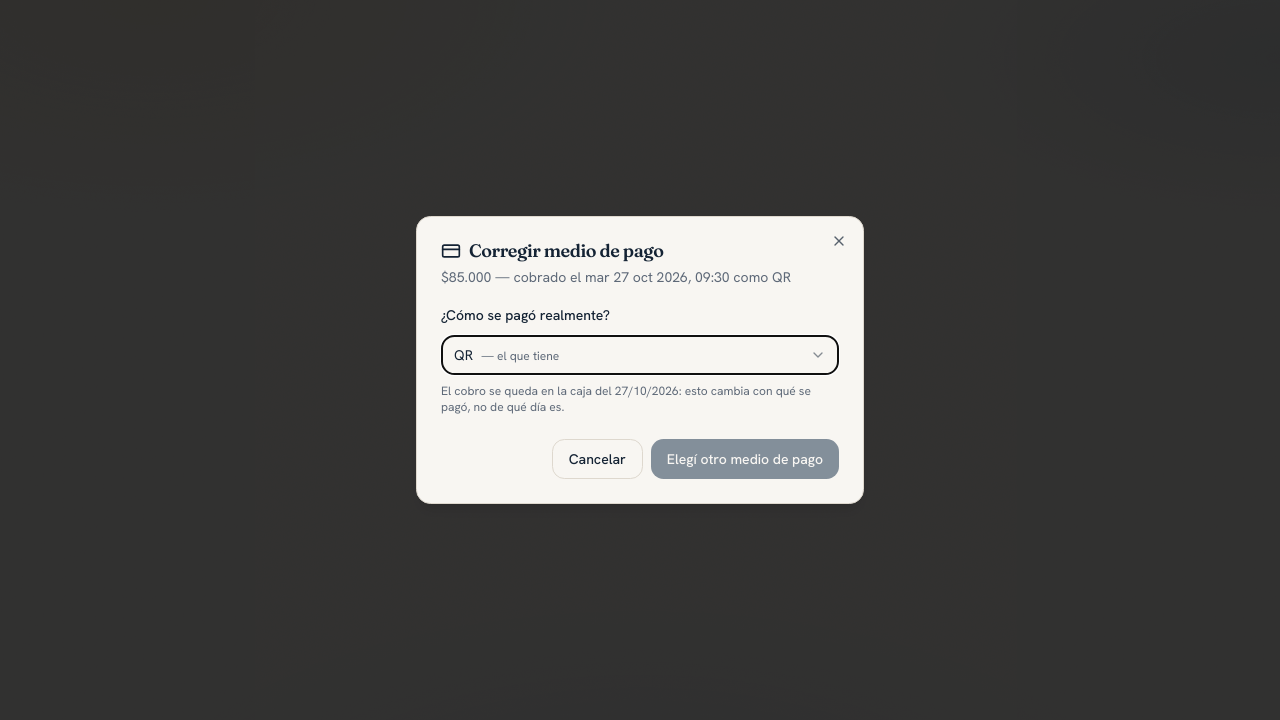
Test: el diálogo de corregir medio de pago › muestra de qué método a qué método queda
Click the dropdown: (520, 356) [441,335,839,375]
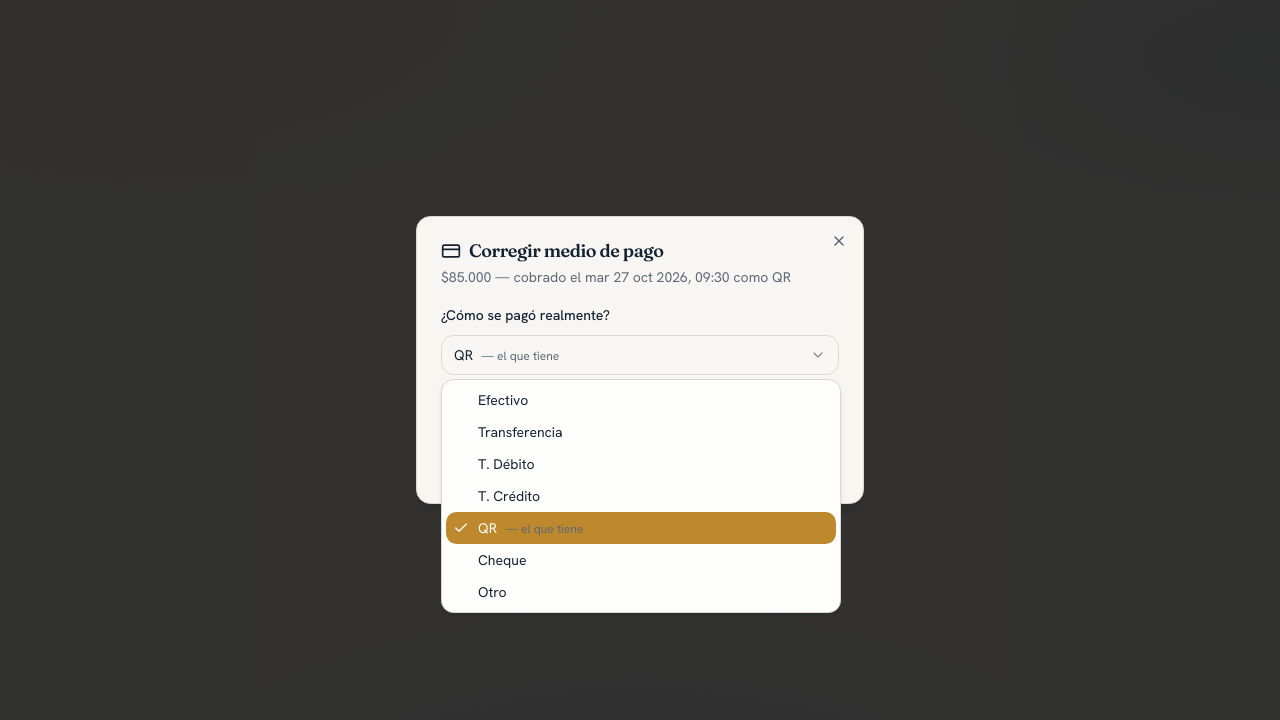
Click the option "Efectivo": (503, 400) [478,391,528,409]
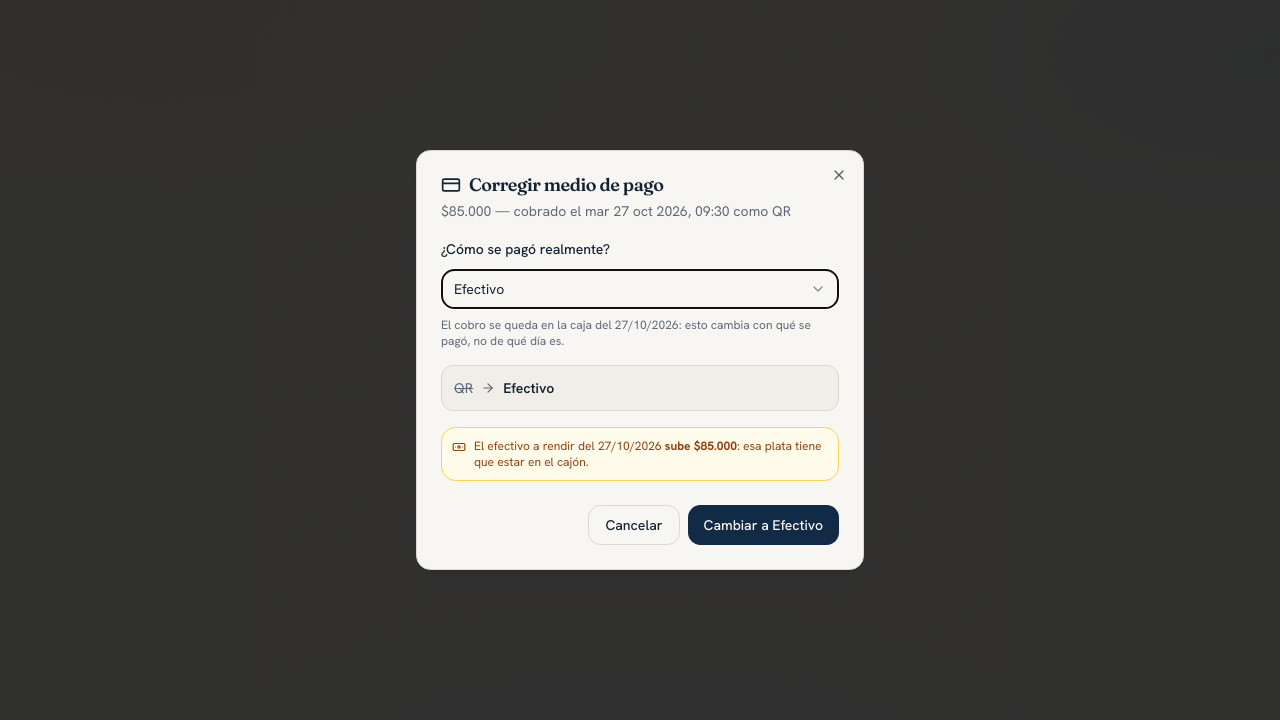
expect the text "QR" is shown: met, box [454,378,473,398]
expect the button "Cambiar a Efectivo" is enabled: met, box [688,505,839,545]
